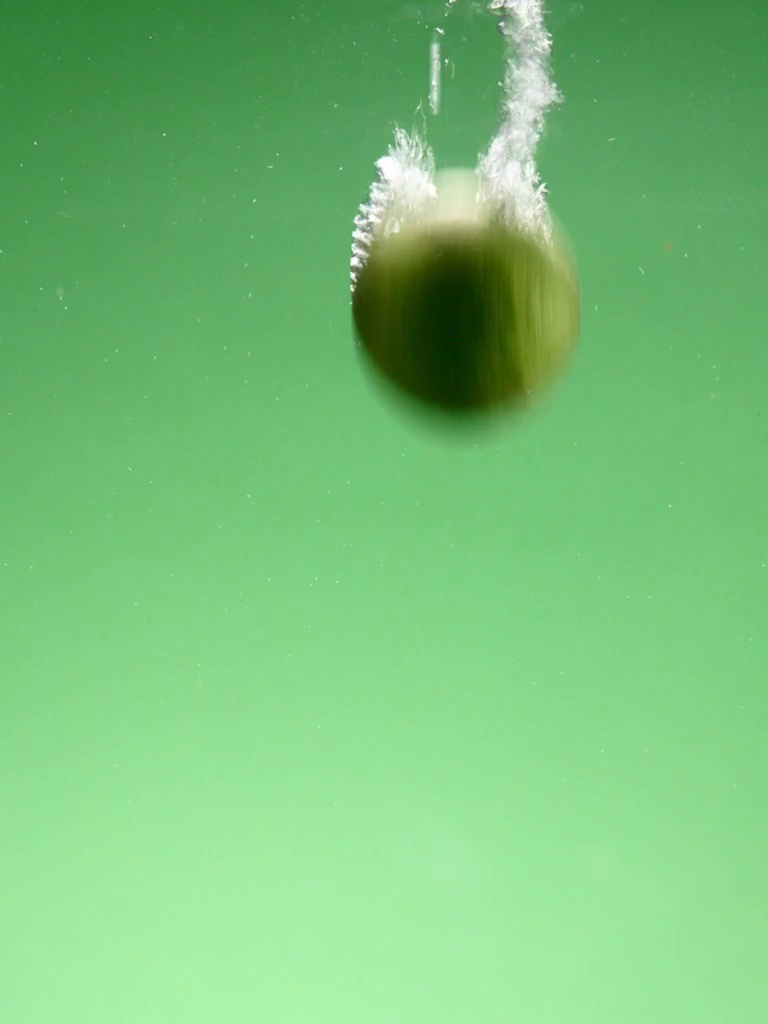Apple: (347, 151, 581, 435)
